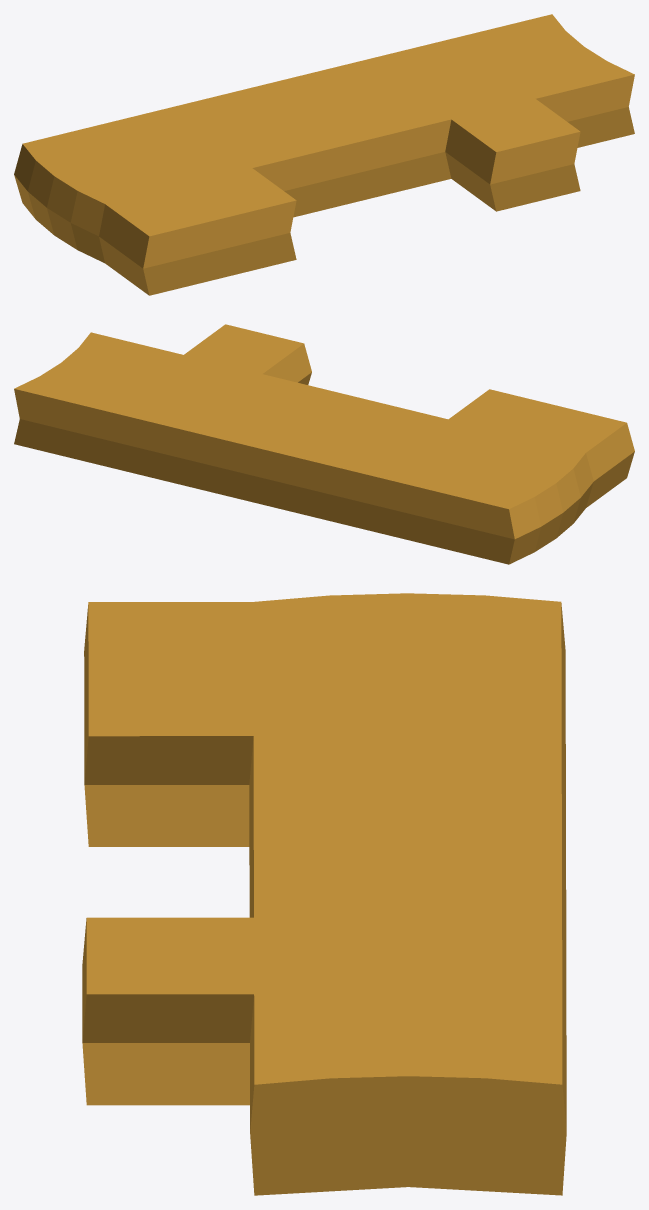
Rendered from keypart2.fbx.
3 views of the same model, one above another, from view 1: azimuth 30°, elevation 25°; view 2: azimuth 150°, elevation 25°; view 3: azimuth 270°, elevation 25° (orthographic). The views are drawn at different scales.
Parts seen in each view (by area): view 1: Torus.001; view 2: Torus.001; view 3: Torus.001.
Boxes of the visible parts, x1,y1,x2,y2 form: Torus.001: (14, 14, 634, 295); Torus.001: (14, 324, 634, 564); Torus.001: (82, 593, 566, 1195).
Bounding box in the file's own units: 17.78 × 1.84 × 7.3.
